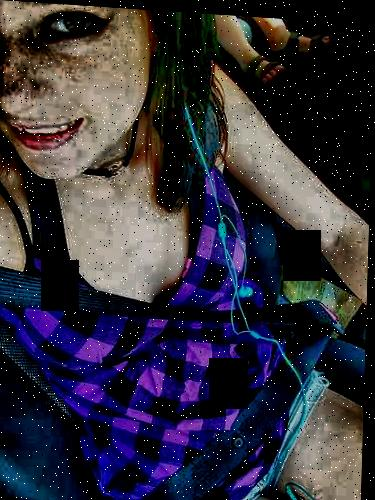seatbelt: (25, 261, 355, 445)
